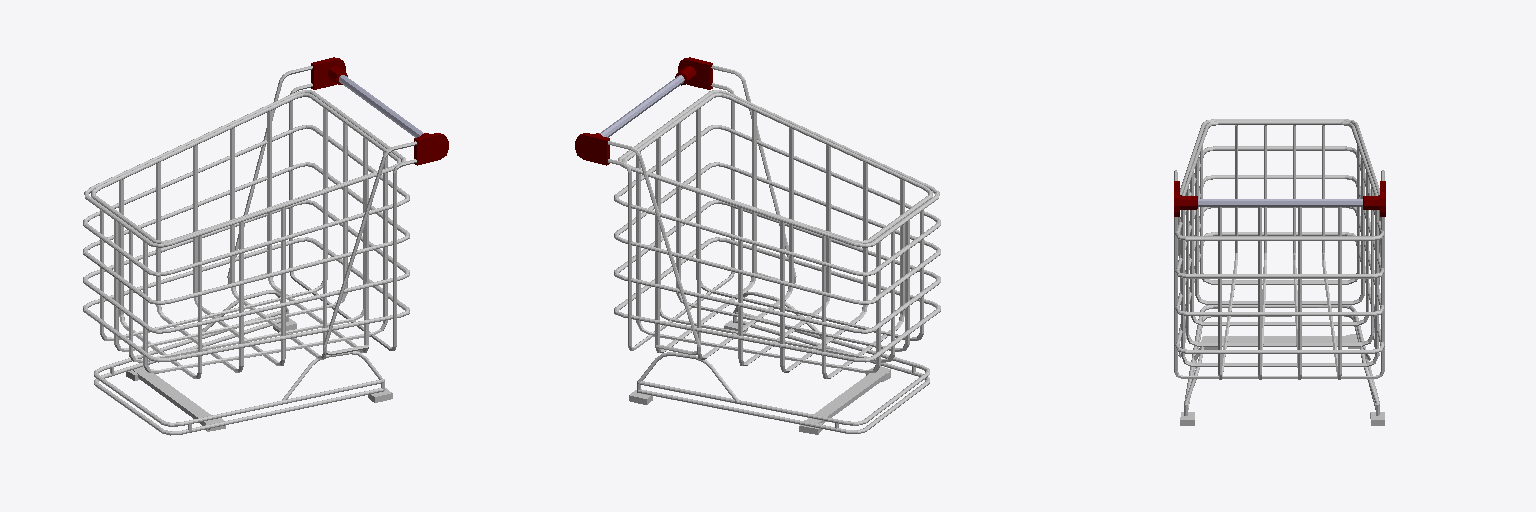
The model's file is trolley.obj.
3 views of the same model, side by side, from view 1: azimuth 30°, elevation 25°; view 2: azimuth 150°, elevation 25°; view 3: azimuth 270°, elevation 25° (orthographic).
Visible parts, largest first — view 1: trolley_Plane.008; view 2: trolley_Plane.008; view 3: trolley_Plane.008.
Part boxes in pixels (x1,y1,x2,y2): trolley_Plane.008: (83, 57, 448, 435); trolley_Plane.008: (575, 57, 940, 434); trolley_Plane.008: (1174, 119, 1385, 425).
Bounding box in the file's own units: 3.25 × 2.83 × 2.14.